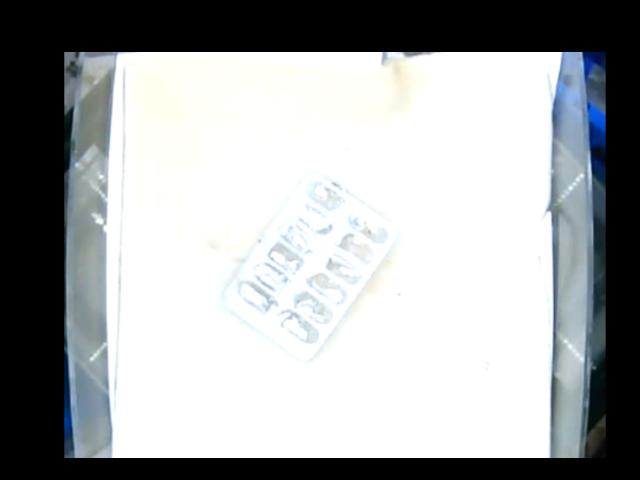Medicine: (228, 173, 397, 370)
